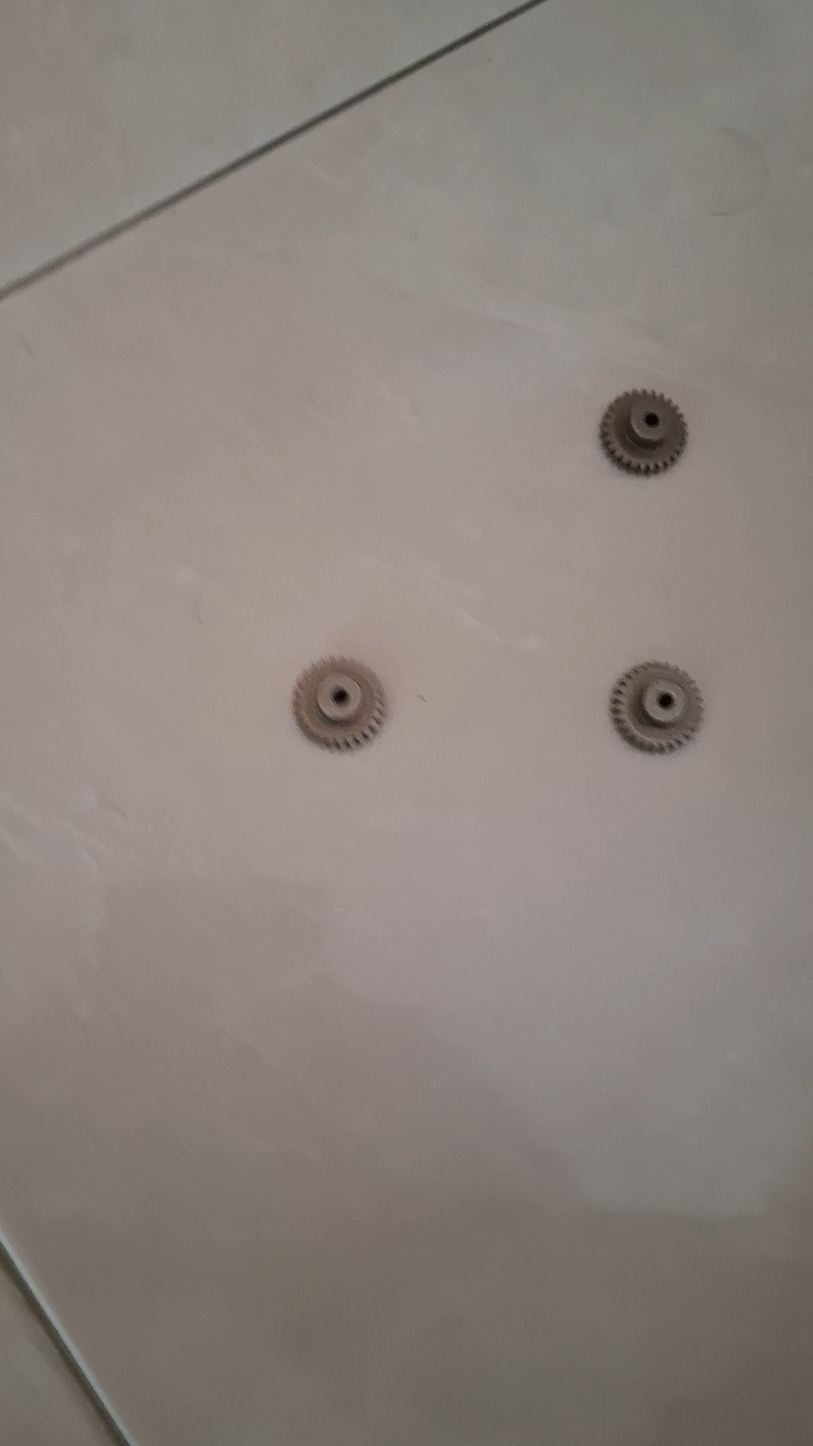spur gear: (292, 658, 386, 751), (609, 662, 703, 753), (600, 391, 687, 473)
